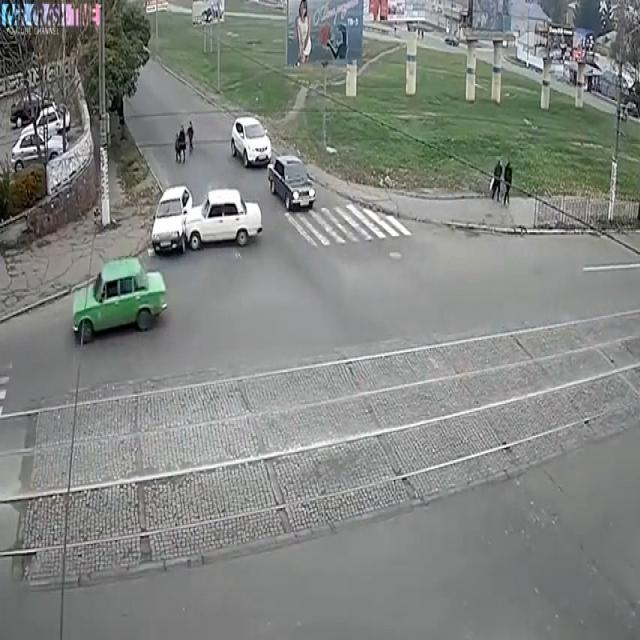Accident: (143, 162, 259, 280)
